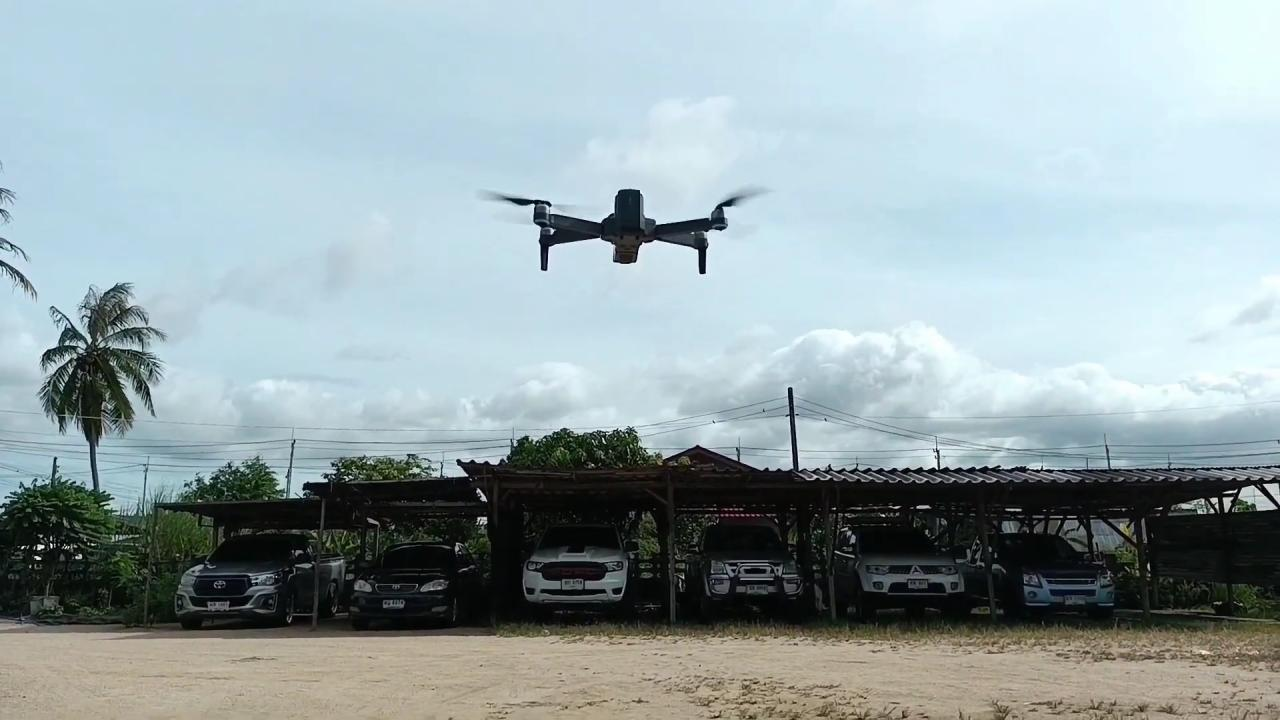Drone: (462, 165, 782, 285)
